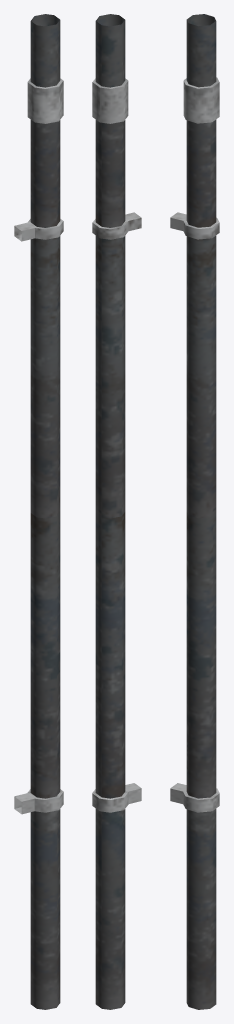
Rendered from ThinPipe_SM.fbx.
The picture shows the model from 3 angles, left to right: view 1: azimuth 30°, elevation 25°; view 2: azimuth 210°, elevation 25°; view 3: azimuth 330°, elevation 25°; orthographic projection.
Visible parts, largest first — view 1: Pipe_SM; view 2: Pipe_SM; view 3: Pipe_SM.
Boxes of the visible parts, bbox=[...] form: Pipe_SM: bbox=[14, 14, 63, 1009]; Pipe_SM: bbox=[92, 14, 141, 1009]; Pipe_SM: bbox=[170, 14, 219, 1009].
Bounding box in the file's own units: 13.73 × 306 × 9.88.
